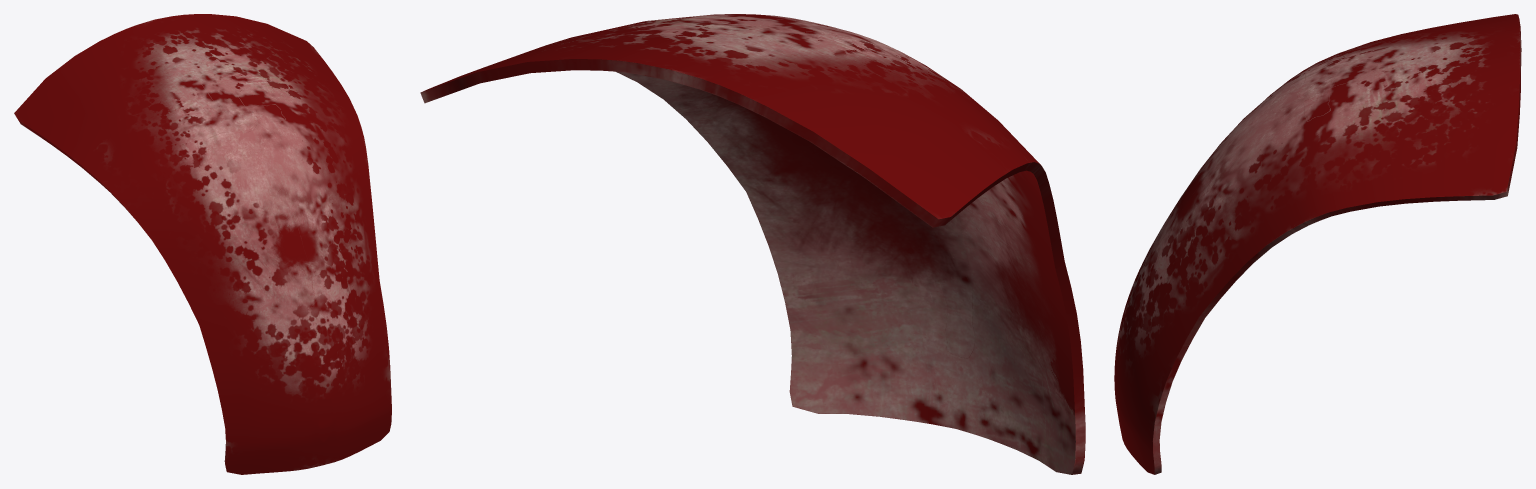
File: Bebe_Huesos.fbx
The picture shows the model from 3 angles, left to right: view 1: azimuth 30°, elevation 25°; view 2: azimuth 150°, elevation 25°; view 3: azimuth 270°, elevation 25°; orthographic projection. The views are drawn at different scales.
Visible parts, largest first — view 1: Craneo_Frente_Completo, craneo_edit.003, Craneo_Frente_Aujerear_Pedazito, Craneo_Frente_Recortar_Pedazitos_y_aujererar.022, Craneo_Frente_Recortar_Pedazitos_y_aujererar.009, Craneo_Frente_Recortar_Pedazitos_y_aujererar.012, Craneo_Frente_Recortar_Pedazitos_y_aujererar.007, Craneo_Frente_Recortar_Pedazitos_y_aujererar.006, Craneo_Frente_Recortar_Pedazitos_y_aujererar.003, Craneo_Frente_Recortar_Pedazitos_y_aujererar.018, Craneo_Frente_Recortar_Pedazitos_y_aujererar.008, Craneo_Frente_Recortar_Pedazitos_y_aujererar.023 (+3 smaller); view 2: Craneo_Frente_Completo, Craneo_Frente_Recortar_Pedazitos_y_aujererar.018, Craneo_Frente_Recortar_Pedazitos_y_aujererar.023, craneo_edit.003; view 3: Craneo_Frente_Completo, craneo_edit.003, Craneo_Frente_Aujerear_Pedazito, Craneo_Frente_Recortar_Pedazitos_y_aujererar.006.
Part boxes in pixels (x1,y1,x2,y2): Craneo_Frente_Completo: (14, 14, 391, 474); craneo_edit.003: (201, 78, 245, 112); Craneo_Frente_Aujerear_Pedazito: (222, 106, 257, 132); Craneo_Frente_Recortar_Pedazitos_y_aujererar.022: (194, 113, 234, 139); Craneo_Frente_Recortar_Pedazitos_y_aujererar.009: (265, 186, 290, 220); Craneo_Frente_Recortar_Pedazitos_y_aujererar.012: (286, 251, 311, 283); Craneo_Frente_Recortar_Pedazitos_y_aujererar.007: (255, 164, 283, 194); Craneo_Frente_Recortar_Pedazitos_y_aujererar.006: (246, 104, 285, 125); Craneo_Frente_Recortar_Pedazitos_y_aujererar.003: (235, 126, 265, 152); Craneo_Frente_Recortar_Pedazitos_y_aujererar.018: (316, 397, 333, 428); Craneo_Frente_Recortar_Pedazitos_y_aujererar.008: (244, 143, 273, 170); Craneo_Frente_Recortar_Pedazitos_y_aujererar.023: (313, 372, 332, 400); Craneo_Frente_Completo: (420, 14, 1085, 474); Craneo_Frente_Recortar_Pedazitos_y_aujererar.018: (946, 307, 974, 358); Craneo_Frente_Recortar_Pedazitos_y_aujererar.023: (940, 268, 972, 311); craneo_edit.003: (748, 19, 826, 34); Craneo_Frente_Completo: (1114, 14, 1521, 474); craneo_edit.003: (1330, 60, 1387, 87); Craneo_Frente_Aujerear_Pedazito: (1297, 75, 1335, 99); Craneo_Frente_Recortar_Pedazitos_y_aujererar.006: (1302, 88, 1330, 121).
Bounding box in the file's own units: 5.18 × 5.43 × 5.16.
